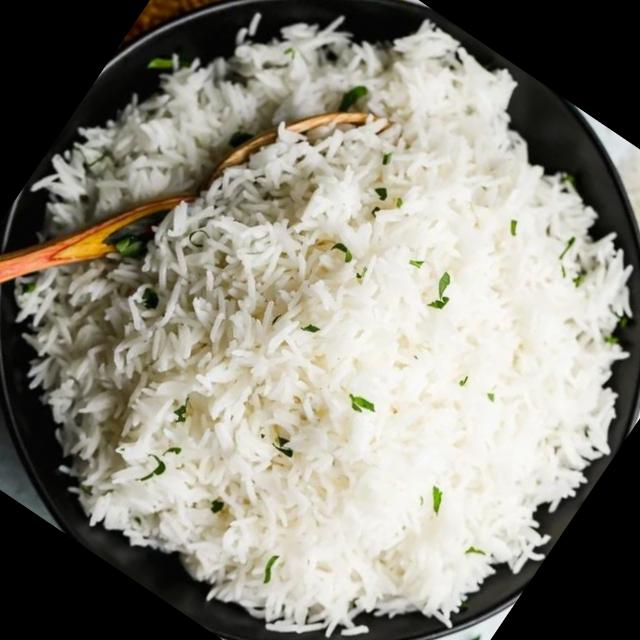rice: (6, 23, 619, 618)
